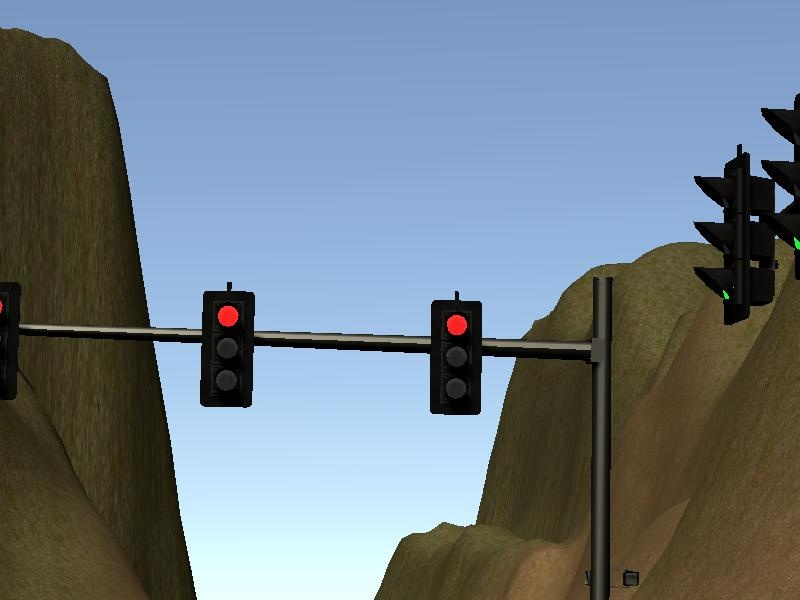red: (197, 287, 258, 410), (426, 298, 485, 417)
